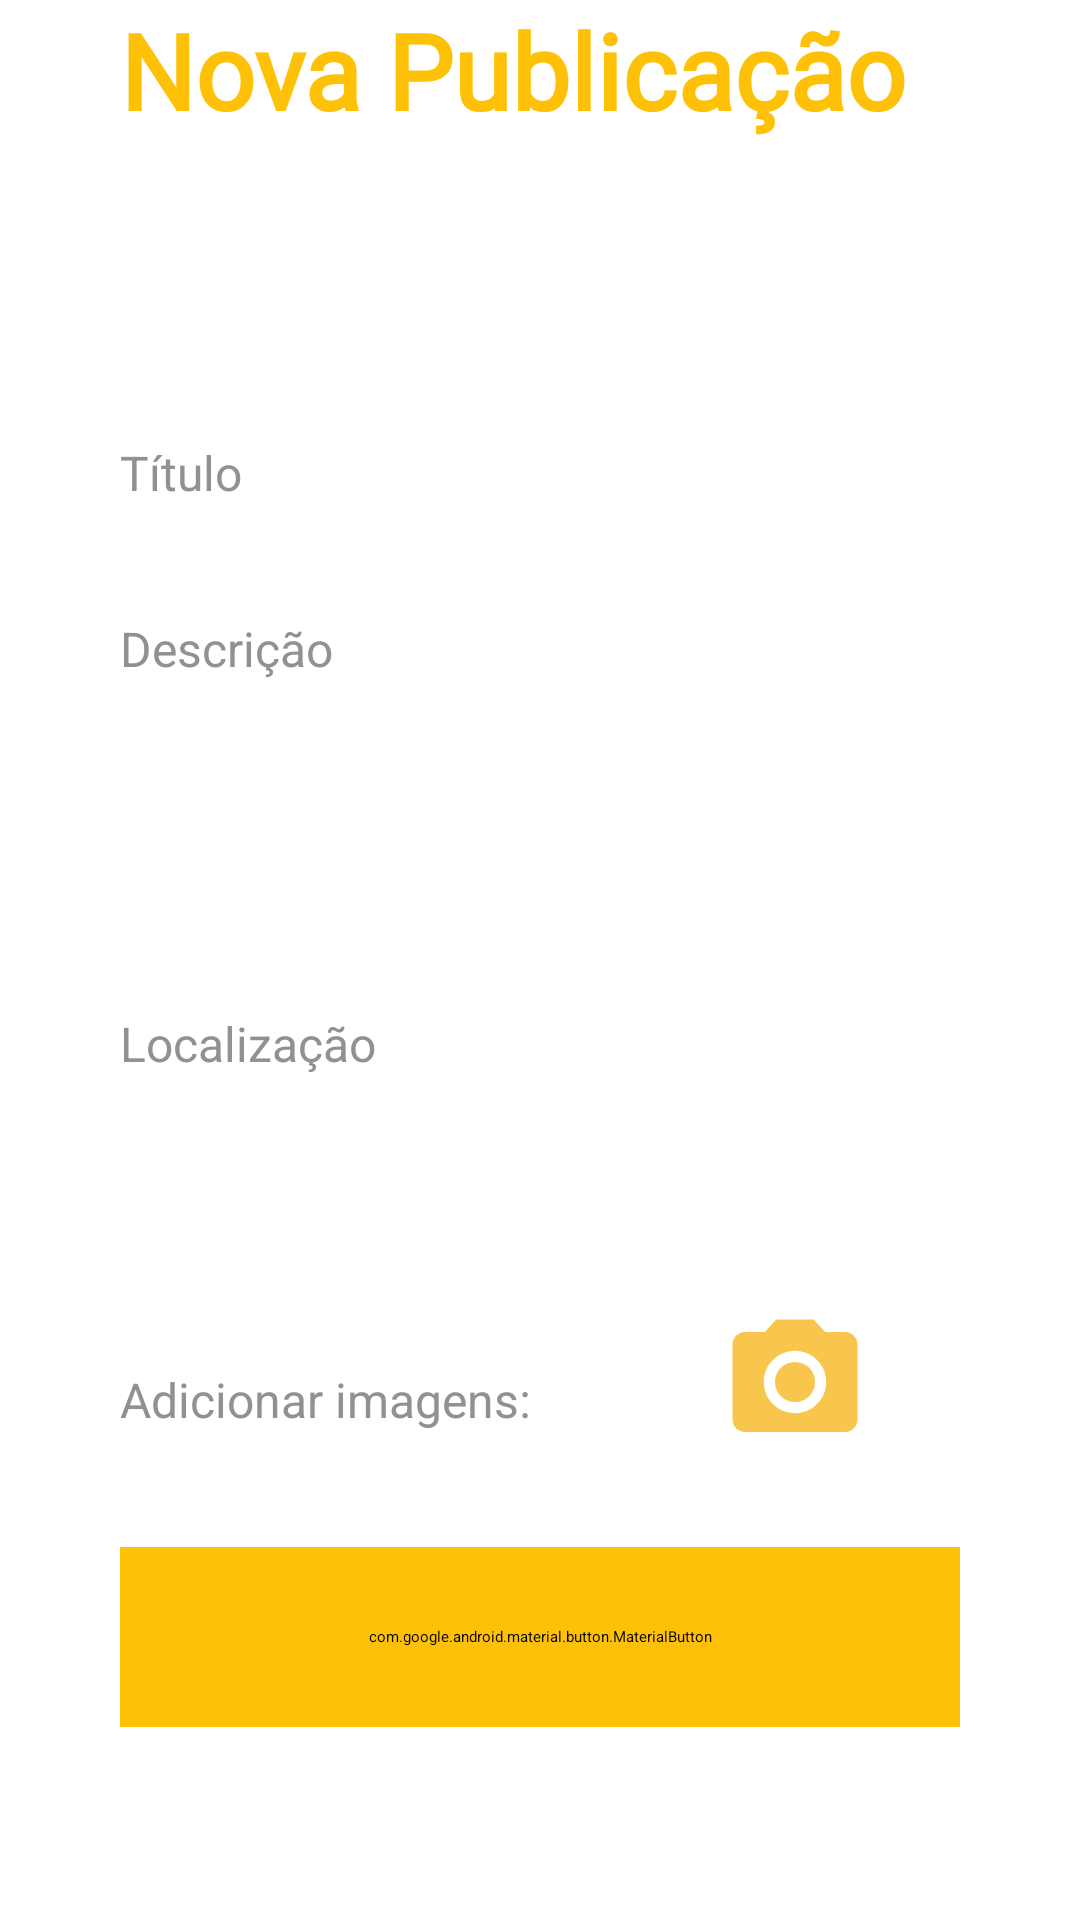

Where icons sit on this 1080 x 1920 app screen, as bbox=[x1, y1, x2, y2]:
photo camera: bbox=[732, 1319, 858, 1432]
